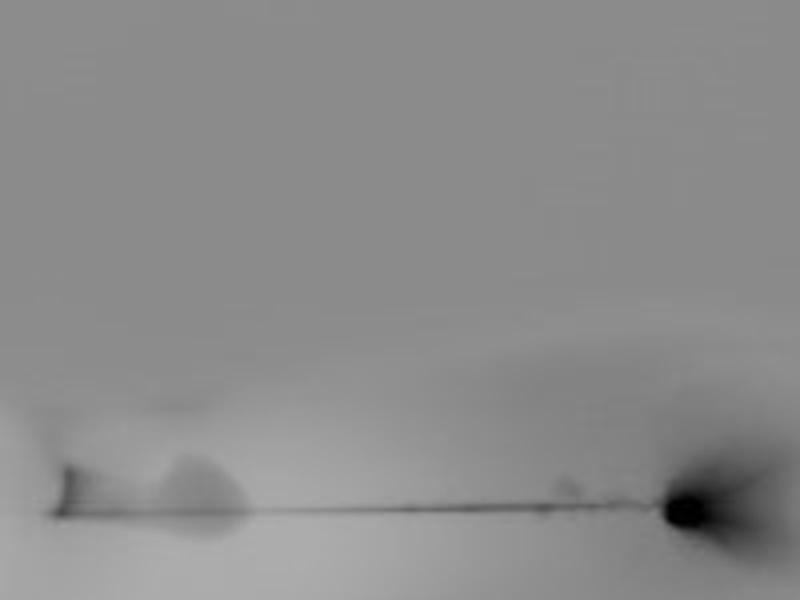defect: (156, 456, 257, 538), (660, 487, 723, 532)
